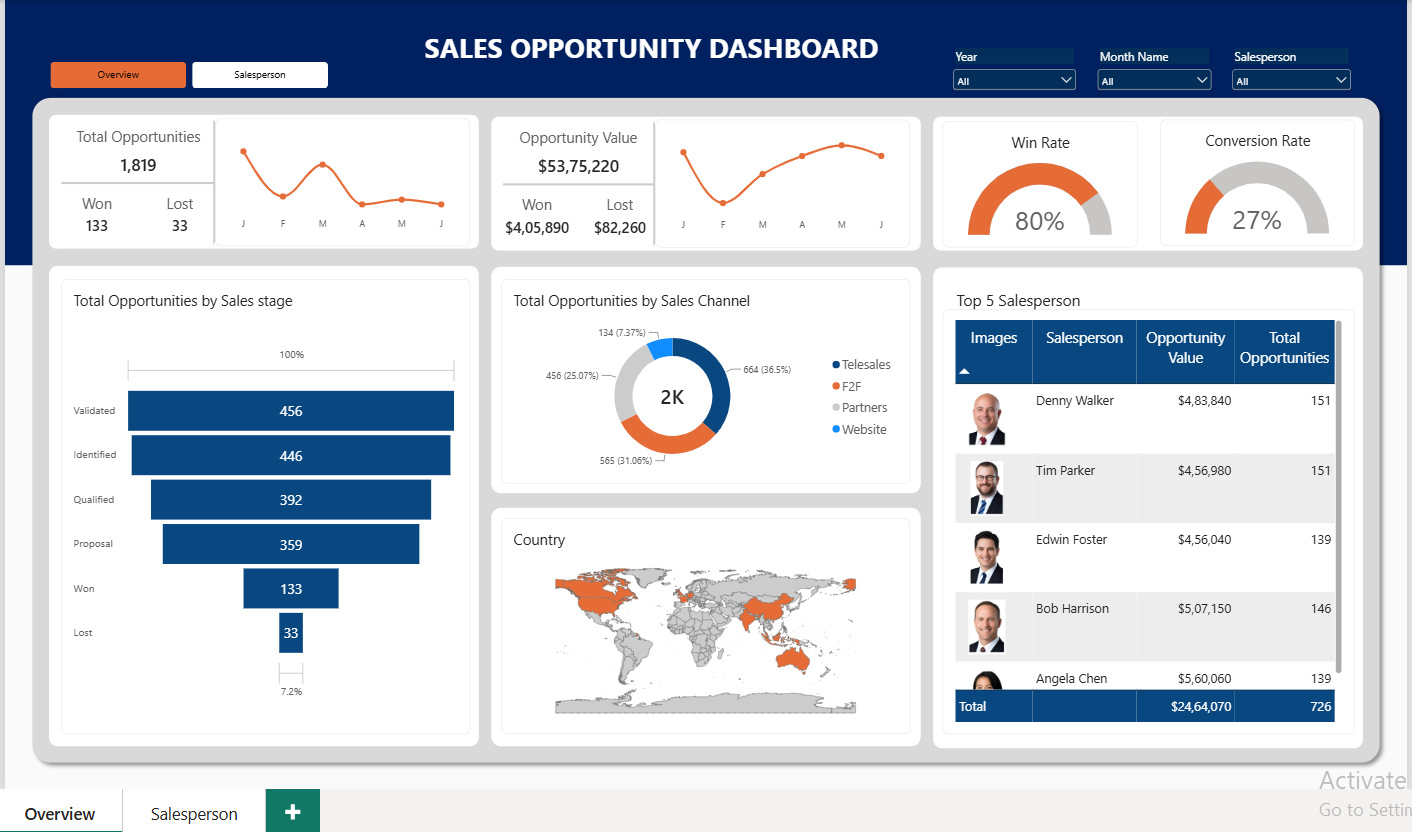

This screenshot's page, from the dashboard's own definition file:
{"tool":"powerbi","page":{"name":"Overview","canvas":[1920,1080],"ordinal":0},"visuals":[{"type":"pageNavigator","box":[62,84,380,36],"z":0},{"type":"cardVisual","fields":{"Data":["Key Measures.Total Opportunities"]},"box":[76.7,161.7,211.7,175],"z":0,"group":"g1"},{"type":"cardVisual","fields":{"Data":["Key Measures.Opportunity Value"]},"box":[680,163.3,211.7,175],"z":0,"group":"g2"},{"type":"group","id":"g1","title":"Group 1","box":[76.7,161.7,560,175],"z":1000},{"type":"lineChart","fields":{"Category":["Date Table.Month Initial"],"Y":["Key Measures.Total Opportunities"]},"box":[288.4,161.7,348.3,175],"z":1000,"group":"g1"},{"type":"lineChart","fields":{"Category":["Date Table.Month Initial"],"Y":["Key Measures.Opportunity Value"]},"box":[891.7,163.3,348.3,175],"z":1000,"group":"g2"},{"type":"group","id":"g2","title":"Group 1","box":[680,163.3,560,175],"z":2000},{"type":"gauge","fields":{"Y":["Key Measures.Win Rate"]},"box":[1284,166,266.7,173.3],"z":3000},{"type":"gauge","fields":{"Y":["Key Measures.Conversion Rate"]},"box":[1581.7,163.3,266.7,173.3],"z":4000},{"type":"funnel","title":"Total Opportunities by Sales stage","fields":{"Category":["Sales Opportunities.Sales stage"],"Y":["Key Measures.Total Opportunities"]},"box":[76.7,381.7,560,623.3],"z":5000},{"type":"donutChart","fields":{"Category":["Sales Opportunities.Sales Channel"],"Y":["Key Measures.Total Opportunities"]},"box":[680,381.7,560,280],"z":6000},{"type":"shapeMap","fields":{"Category":["Sales Opportunities.Country"]},"box":[680,710,560,295],"z":7000},{"type":"tableEx","fields":{"Values":["Sales Opportunities.Salesperson.1.Images","Sales Opportunities.Salesperson","Key Measures.Opportunity Value","Key Measures.Total Opportunities"]},"box":[1284,424,564,582],"z":8000},{"type":"textbox","box":[1304,396,468,28],"z":9000},{"type":"slicer","fields":{"Values":["Date Table.month name"]},"box":[1491,66,166,72],"z":10000},{"type":"slicer","fields":{"Values":["Date Table.Year"]},"box":[1294,66,178,72],"z":11000},{"type":"slicer","fields":{"Values":["Sales Opportunities.Salesperson"]},"box":[1676,66,172,72],"z":12000},{"type":"textbox","box":[476,2,818,116],"z":13000}]}

Visuals, with their boxes on the page's 1920x1080 design canvas (x1, y1, x2, y2). These are canvas units, not pixel positions in the 1412x832 screenshot, which may show the page scaled, cropped or inside an application window:
pageNavigator: l=62, t=84, r=442, b=120
cardVisual - Key Measures.Total Opportunities: l=77, t=162, r=288, b=337
cardVisual - Key Measures.Opportunity Value: l=680, t=163, r=892, b=338
"Group 1" group: l=77, t=162, r=637, b=337
lineChart - Date Table.Month Initial x Key Measures.Total Opportunities: l=288, t=162, r=637, b=337
lineChart - Date Table.Month Initial x Key Measures.Opportunity Value: l=892, t=163, r=1240, b=338
"Group 1" group: l=680, t=163, r=1240, b=338
gauge - Key Measures.Win Rate: l=1284, t=166, r=1551, b=339
gauge - Key Measures.Conversion Rate: l=1582, t=163, r=1848, b=337
"Total Opportunities by Sales stage" funnel: l=77, t=382, r=637, b=1005
donutChart - Sales Opportunities.Sales Channel x Key Measures.Total Opportunities: l=680, t=382, r=1240, b=662
shapeMap - Sales Opportunities.Country: l=680, t=710, r=1240, b=1005
tableEx - Sales Opportunities.Salesperson.1.Images x Sales Opportunities.Salesperson: l=1284, t=424, r=1848, b=1006
textbox: l=1304, t=396, r=1772, b=424
slicer - Date Table.month name: l=1491, t=66, r=1657, b=138
slicer - Date Table.Year: l=1294, t=66, r=1472, b=138
slicer - Sales Opportunities.Salesperson: l=1676, t=66, r=1848, b=138
textbox: l=476, t=2, r=1294, b=118
